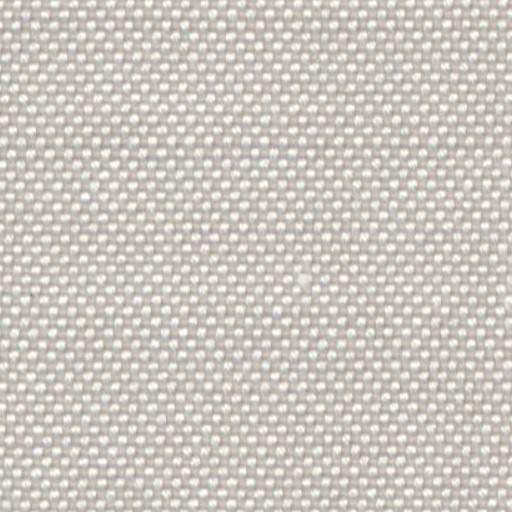TuoSha: (8, 112, 493, 192)
